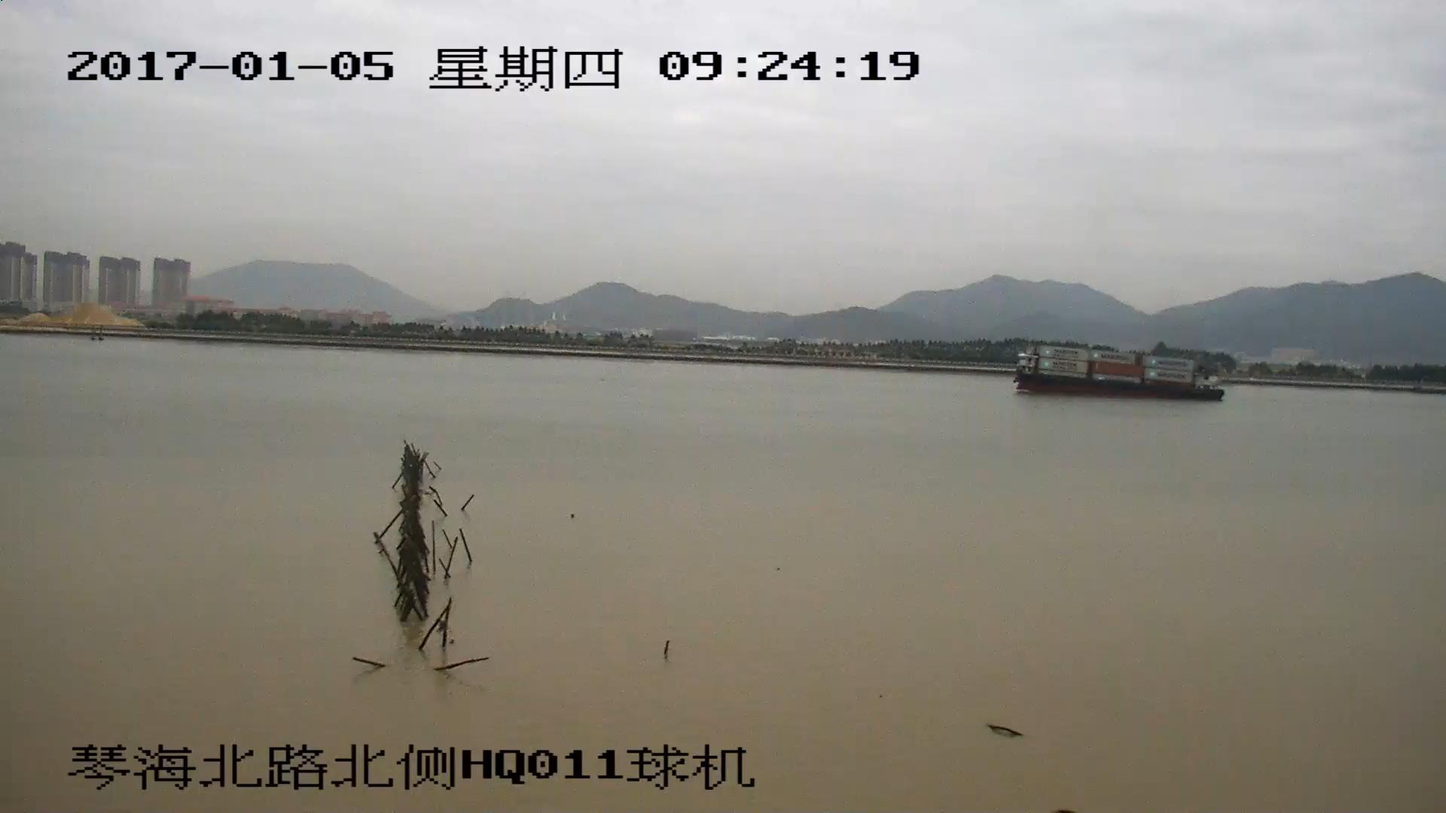container ship: (1017, 346, 1219, 396)
